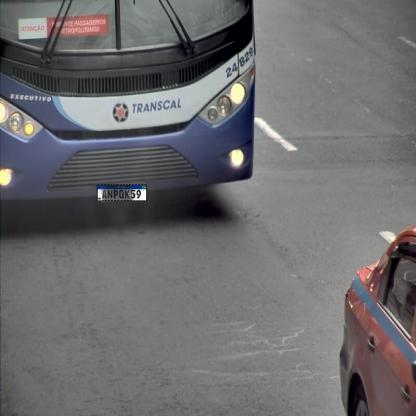PlacaM: (97, 184, 147, 201)
